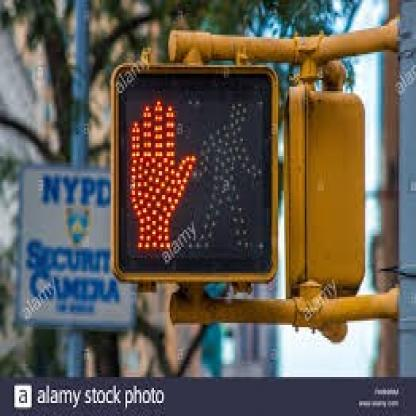Don-t Walk: (114, 67, 278, 284)
